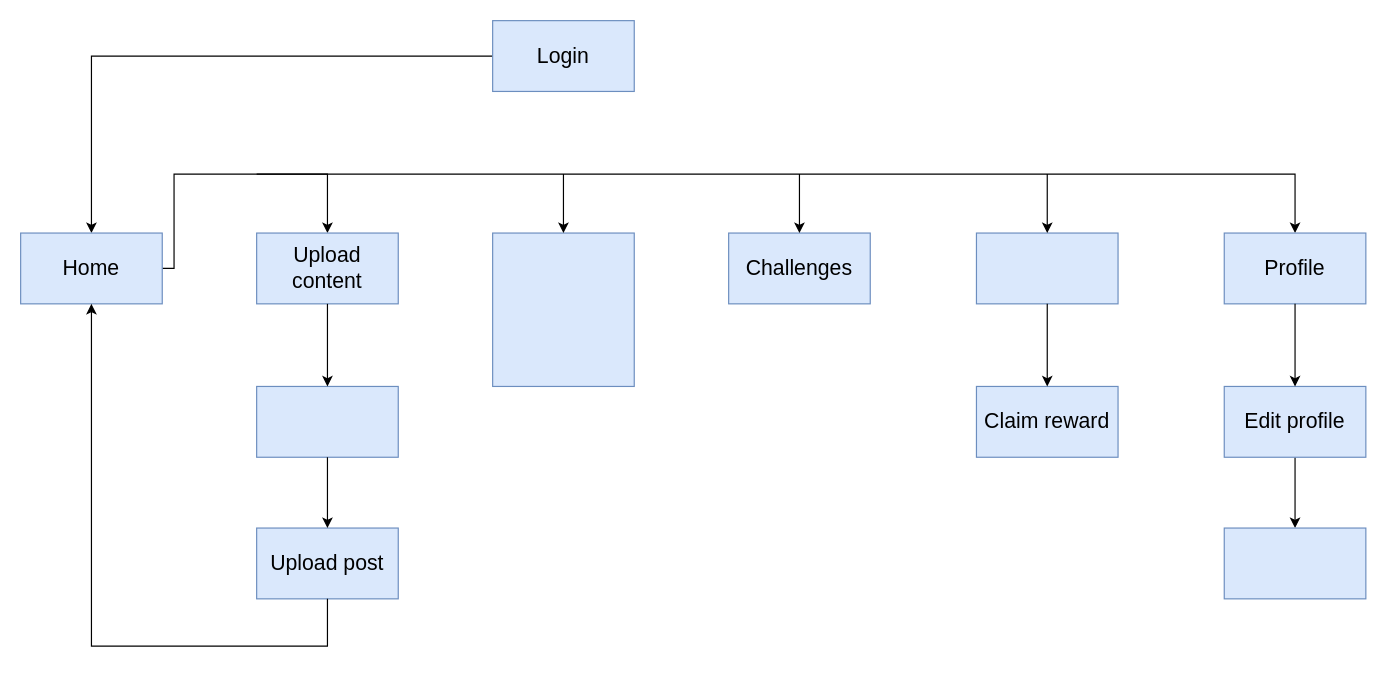
Image size: 1386x676. Some labels were removed from this diagram. The shapes that lost their labels are listed below. From the top down, each one's box as (x1, y1, x2, y2) in pixels, then its label:
(975, 232, 1118, 304): Rewards
(491, 232, 634, 386): Daily educational tips of sustainable practices
(255, 385, 398, 457): Take photos
(1223, 527, 1366, 599): Change profile picture
